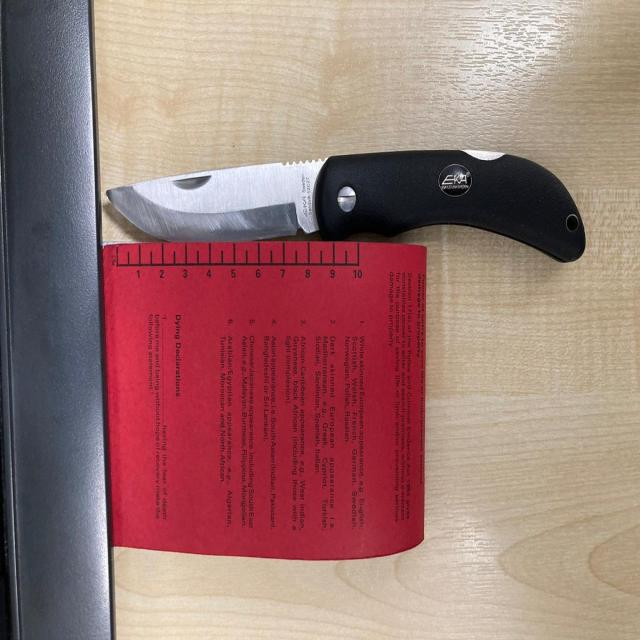Sharp-Object: (104, 151, 585, 262)
